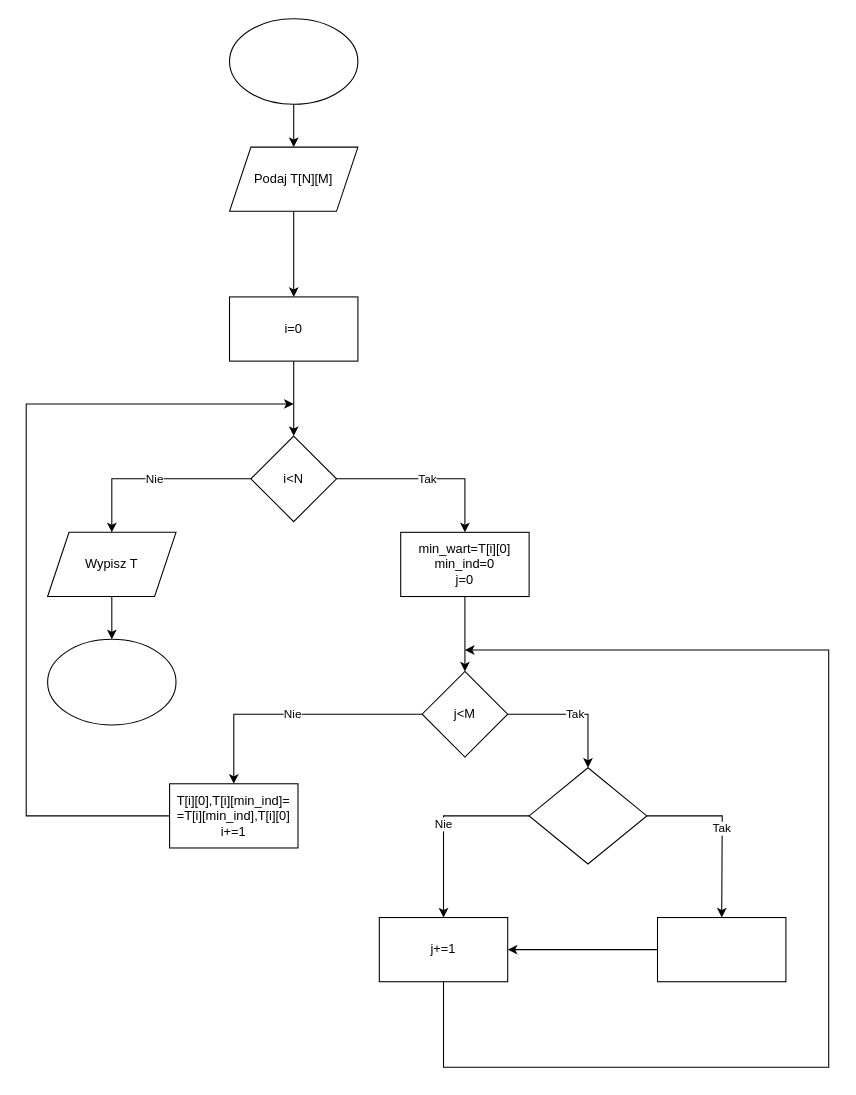
This 856x1095 diagram has some shape labels left out. The shapes that lost their labels are listed below. From the top down, each one's centre as x and y in pixels, then its label:
(x=293, y=61): Start
(x=111, y=681): End
(x=587, y=815): T[i][j]<min_wart
(x=721, y=949): min_wart=T[i][j] min_ind=j
